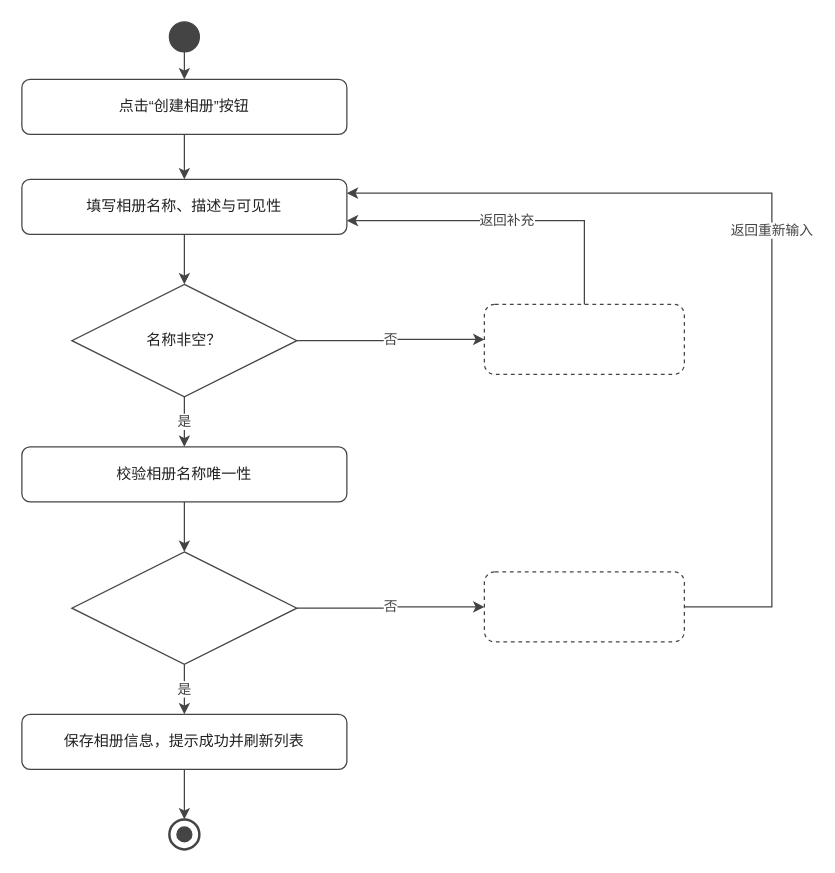
This 835x873 diagram has some shape labels left out. Here are the shapes that lost their labels. From the top down, the centre of each, then its label:
At pixel 583 338: "提示“请输入相册名称”".
At pixel 184 607: "名称唯一？".
At pixel 583 606: "提示“相册名称已存在”".
